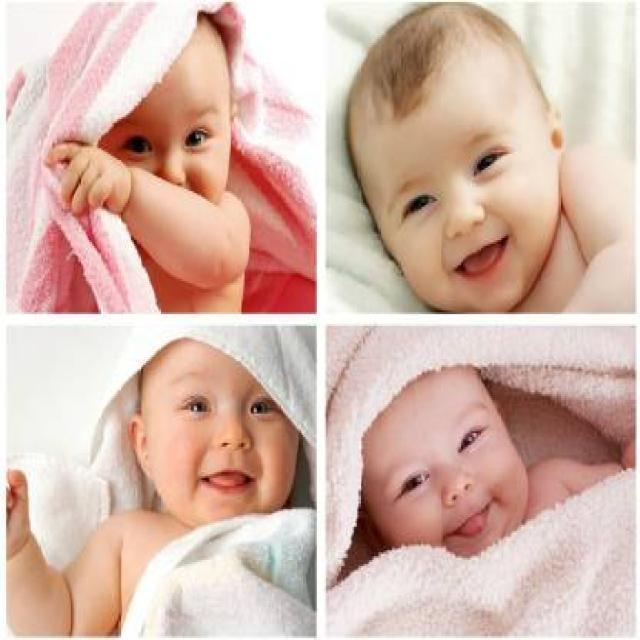non-dog: (345, 2, 637, 315), (7, 338, 306, 636), (40, 3, 252, 313), (359, 365, 636, 555)
